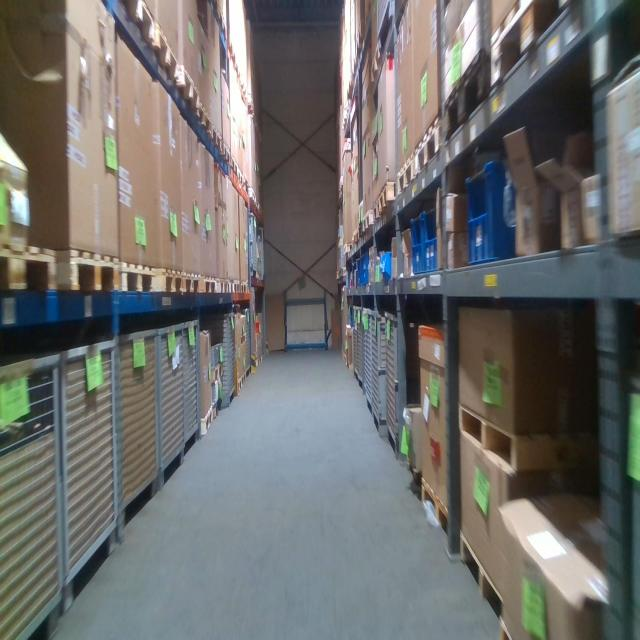pallet: (457, 400, 578, 477), (489, 1, 577, 93), (444, 42, 487, 147), (1, 245, 60, 315), (56, 239, 120, 300), (459, 531, 506, 604), (419, 473, 452, 539), (119, 254, 158, 309), (414, 111, 442, 183), (116, 2, 154, 53), (152, 18, 178, 91), (176, 66, 202, 131), (155, 265, 182, 301), (396, 147, 413, 203), (182, 270, 198, 303), (199, 404, 214, 439), (199, 275, 217, 303), (212, 360, 223, 385)
small_load_carrier: (464, 160, 516, 267), (425, 207, 440, 275), (411, 210, 424, 276), (362, 251, 372, 287), (357, 258, 363, 286), (346, 270, 351, 289), (348, 308, 353, 326)
stillage: (0, 339, 66, 639), (62, 331, 117, 610), (117, 319, 163, 546), (158, 315, 188, 500), (383, 306, 416, 462), (181, 314, 202, 464), (206, 308, 235, 414), (372, 311, 390, 437), (361, 306, 379, 421), (240, 303, 252, 387), (356, 303, 366, 388), (247, 210, 257, 275), (257, 227, 266, 283), (352, 302, 357, 379)
